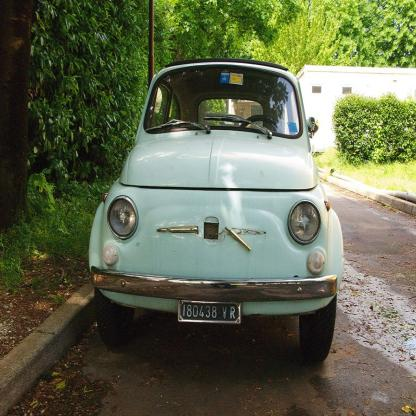Car: (89, 59, 346, 364)
